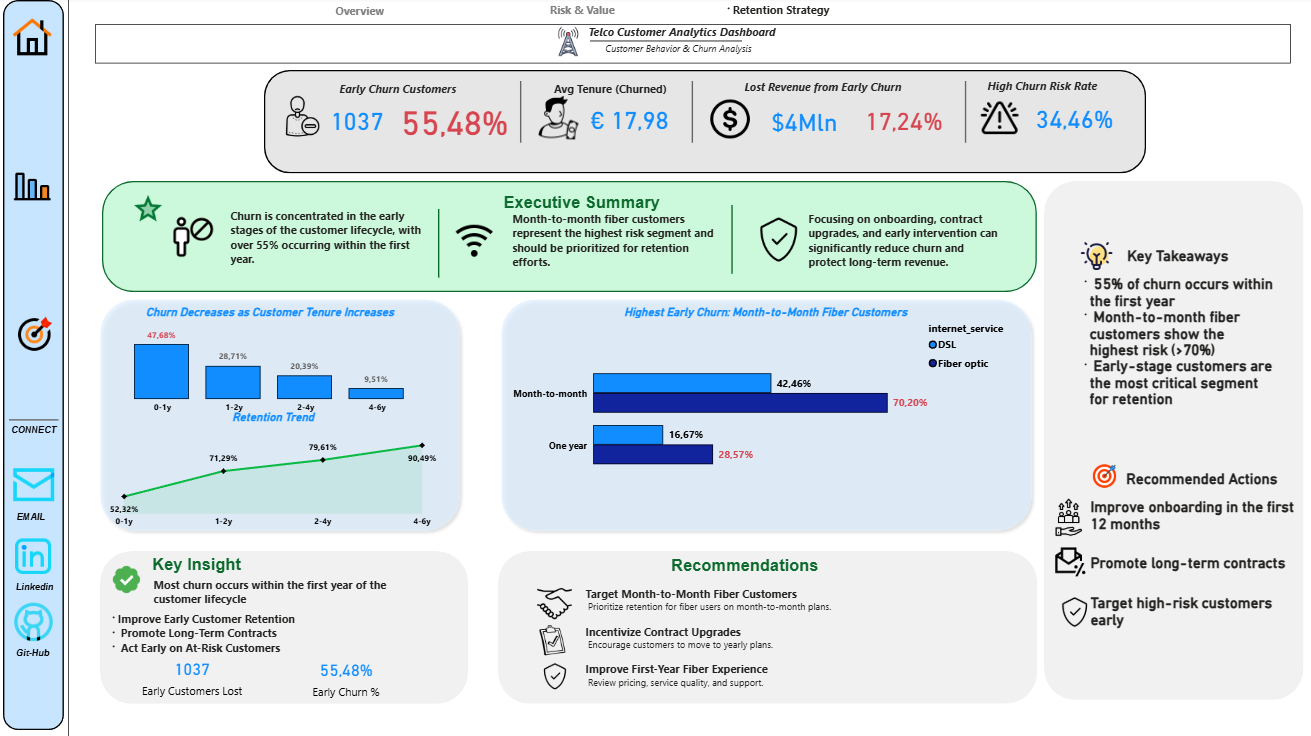

The page's visual inventory and layout, read from the dashboard file:
{"tool":"powerbi","page":{"name":"Retention Strategy","canvas":[1920,1080],"ordinal":2},"visuals":[{"type":"shape","box":[101.6,0,1818,1082],"z":0},{"type":"shape","box":[141.8,39.3,1744.6,57.5],"z":1000},{"type":"textbox","box":[851.8,35.7,325,37.5],"z":2000},{"type":"shape","box":[6.7,4,88.9,1065.2],"z":3000},{"type":"textbox","box":[487,4.3,87,31.9],"z":4000},{"type":"textbox","box":[685.2,3.6,333.7,39.3],"z":5000},{"type":"textbox","box":[1049.2,3.3,419.7,50.8],"z":6000},{"type":"image","box":[16.2,31,68.7,57.9],"z":7000},{"type":"image","box":[804.3,37.7,56.5,53.6],"z":8000},{"type":"textbox","box":[857.1,60.7,269.6,30.4],"z":9000},{"type":"image","box":[16.4,249.2,67.2,54.1],"z":10000},{"type":"shape","box":[15.9,589.9,72.5,55.1],"z":11000},{"type":"shape","box":[863.8,55.1,221.7,17.4],"z":12000},{"type":"image","box":[11.6,678.3,81.2,65.2],"z":13000},{"type":"image","box":[7.2,787,88.4,59.4],"z":14000},{"type":"image","box":[7.2,881.2,88.4,60.9],"z":15000},{"type":"textbox","box":[8.7,617.4,87,27.5],"z":16000},{"type":"textbox","box":[9.8,743.9,75.8,26.7],"z":17000},{"type":"textbox","box":[11.6,846.4,84.1,29],"z":18000},{"type":"textbox","box":[8.7,942,84.1,29],"z":19000},{"type":"shape","box":[139.3,431.1,542.6,355.7],"z":20000},{"type":"shape","box":[388.5,106.6,1286.9,150.8],"z":21000},{"type":"shape","box":[734.4,123,57.4,90.2],"z":22000},{"type":"card","fields":{"Values":["Misure.Average Tenure (Churned Customers)"]},"box":[842.6,145.9,157.4,62.3],"z":23000},{"type":"shape","box":[724.6,431.1,791.8,355.7],"z":24000},{"type":"card","fields":{"Values":["Misure.Lost Revenue"]},"box":[1104.9,147.5,144.3,63.9],"z":25000},{"type":"shape","box":[995.1,123,36.1,90.2],"z":26000},{"type":"card","fields":{"Values":["Misure.Early Churn Customers"]},"box":[444.3,145.9,157.4,63.9],"z":27000},{"type":"card","fields":{"Values":["Misure.High Risk %"]},"box":[1495.1,144.3,150.8,62.3],"z":28000},{"type":"card","fields":{"Values":["Misure.Lost Revenue%"]},"box":[1242.6,147.5,157.4,62.3],"z":29000},{"type":"card","fields":{"Values":["Misure.Early Stage Churn %"]},"box":[577,147.5,175.4,62.3],"z":30000},{"type":"shape","box":[1398.4,123,27.9,90.2],"z":31000},{"type":"textbox","box":[1084.2,115.8,254.4,38.6],"z":32000},{"type":"textbox","box":[764.9,117.5,257.9,36.8],"z":33000},{"type":"textbox","box":[1439.1,114.1,196.9,35.9],"z":34000},{"type":"textbox","box":[493,117.5,191.2,49.1],"z":35000},{"type":"image","box":[1027.9,142.6,78.7,70.5],"z":36000},{"type":"image","box":[1426.2,145.9,68.9,62.3],"z":37000},{"type":"shape","box":[148.1,808.3,537.1,223],"z":38000},{"type":"image","box":[404.9,142.6,78.7,62.3],"z":39000},{"type":"image","box":[763.9,139.3,96.7,72.1],"z":40000},{"type":"columnChart","title":"Churn Decreases as Customer Tenure Increases","fields":{"Category":["telco chast.tenure_group"],"Y":["Misure.Churn rate %"]},"box":[152.5,449.2,490.2,167.2],"z":41000},{"type":"lineChart","title":"Retention Trend","fields":{"Category":["telco chast.tenure_group"],"Y":["Misure.Active Customers %"]},"box":[121.3,603.3,560.7,180.3],"z":42000},{"type":"textbox","box":[152.5,891.8,341,134.4],"z":43000},{"type":"textbox","box":[221.3,824.6,352.5,96.7],"z":44000},{"type":"card","fields":{"Values":["Misure.Early Stage Churn %"]},"box":[427.9,952.5,160.7,78.7],"z":45000},{"type":"card","title":"Customers Lost Early","fields":{"Values":["Misure.Early Churn Customers"]},"box":[188.5,945.9,190.2,90.2],"z":46000},{"type":"clusteredBarChart","title":"Highest Early Churn: Month-to-Month Fiber Customers","fields":{"Category":["telco chast.contract"],"Y":["Misure.Early Churn Rate %"],"Series":["telco chast.internet_service"]},"box":[745.9,449.2,749.2,308.2],"z":47000},{"type":"shape","box":[729.5,808.2,786.9,223],"z":48000},{"type":"textbox","box":[852.5,809.8,475.4,203.3],"z":49000},{"type":"shape","box":[1526.2,268.9,378.7,757.4],"z":50000},{"type":"textbox","box":[1570.3,360.9,300,350],"z":51000},{"type":"image","box":[1570.5,355.7,65.6,45.9],"z":52000},{"type":"textbox","box":[1588.5,685.2,329.5,311.5],"z":53000},{"type":"image","box":[1588.5,678.7,50.8,41],"z":54000},{"type":"image","box":[19.7,465.6,67.2,54.1],"z":55000},{"type":"image","box":[782,972.1,60.7,39.3],"z":56000},{"type":"image","box":[1526.1,875.4,71.5,43.8],"z":57000},{"type":"image","box":[782,906.6,50.8,65.6],"z":58000},{"type":"image","box":[786.9,845.9,50.8,75.4],"z":59000},{"type":"image","box":[1526.2,796.7,72.1,52.5],"z":60000},{"type":"image","box":[1526.2,731.1,72.1,55.7],"z":61000},{"type":"shape","box":[152.5,268.9,1363.9,162.3],"z":62000},{"type":"textbox","box":[191.8,280.3,1321.3,45.9],"z":63000},{"type":"textbox","box":[334.4,303.3,304.9,104.9],"z":64000},{"type":"shape","box":[627.9,309.8,31.1,100],"z":65000},{"type":"image","box":[196.7,280.3,44.3,57.4],"z":66000},{"type":"image","box":[255.7,303.3,59,93.4],"z":67000},{"type":"textbox","box":[745.9,308.2,309.8,109.8],"z":68000},{"type":"image","box":[665.6,308.2,59,93.4],"z":69000},{"type":"textbox","box":[1177,308.2,288.5,111.5],"z":70000},{"type":"image","box":[1104.9,321.3,68.9,65.6],"z":71000},{"type":"shape","box":[1037.7,303.3,67.2,100],"z":72000},{"type":"textbox","box":[219.7,808.2,191.8,45.9],"z":73000},{"type":"image","box":[163.9,823,47.5,54.1],"z":74000}]}

Visuals, with their boxes on the page's 1920x1080 design canvas (x1, y1, x2, y2). These are canvas units, not pixel positions in the 1311x736 screenshot, which may show the page scaled, cropped or inside an application window:
shape: [left=102, top=0, right=1920, bottom=1082]
shape: [left=142, top=39, right=1886, bottom=97]
textbox: [left=852, top=36, right=1177, bottom=73]
shape: [left=7, top=4, right=96, bottom=1069]
textbox: [left=487, top=4, right=574, bottom=36]
textbox: [left=685, top=4, right=1019, bottom=43]
textbox: [left=1049, top=3, right=1469, bottom=54]
image: [left=16, top=31, right=85, bottom=89]
image: [left=804, top=38, right=861, bottom=91]
textbox: [left=857, top=61, right=1127, bottom=91]
image: [left=16, top=249, right=84, bottom=303]
shape: [left=16, top=590, right=88, bottom=645]
shape: [left=864, top=55, right=1086, bottom=72]
image: [left=12, top=678, right=93, bottom=744]
image: [left=7, top=787, right=96, bottom=846]
image: [left=7, top=881, right=96, bottom=942]
textbox: [left=9, top=617, right=96, bottom=645]
textbox: [left=10, top=744, right=86, bottom=771]
textbox: [left=12, top=846, right=96, bottom=875]
textbox: [left=9, top=942, right=93, bottom=971]
shape: [left=139, top=431, right=682, bottom=787]
shape: [left=388, top=107, right=1675, bottom=257]
shape: [left=734, top=123, right=792, bottom=213]
card - Misure.Average Tenure (Churned Customers): [left=843, top=146, right=1000, bottom=208]
shape: [left=725, top=431, right=1516, bottom=787]
card - Misure.Lost Revenue: [left=1105, top=148, right=1249, bottom=211]
shape: [left=995, top=123, right=1031, bottom=213]
card - Misure.Early Churn Customers: [left=444, top=146, right=602, bottom=210]
card - Misure.High Risk %: [left=1495, top=144, right=1646, bottom=207]
card - Misure.Lost Revenue%: [left=1243, top=148, right=1400, bottom=210]
card - Misure.Early Stage Churn %: [left=577, top=148, right=752, bottom=210]
shape: [left=1398, top=123, right=1426, bottom=213]
textbox: [left=1084, top=116, right=1339, bottom=154]
textbox: [left=765, top=118, right=1023, bottom=154]
textbox: [left=1439, top=114, right=1636, bottom=150]
textbox: [left=493, top=118, right=684, bottom=167]
image: [left=1028, top=143, right=1107, bottom=213]
image: [left=1426, top=146, right=1495, bottom=208]
shape: [left=148, top=808, right=685, bottom=1031]
image: [left=405, top=143, right=484, bottom=205]
image: [left=764, top=139, right=861, bottom=211]
"Churn Decreases as Customer Tenure Increases" columnChart: [left=152, top=449, right=643, bottom=616]
"Retention Trend" lineChart: [left=121, top=603, right=682, bottom=784]
textbox: [left=152, top=892, right=494, bottom=1026]
textbox: [left=221, top=825, right=574, bottom=921]
card - Misure.Early Stage Churn %: [left=428, top=952, right=589, bottom=1031]
"Customers Lost Early" card: [left=188, top=946, right=379, bottom=1036]
"Highest Early Churn: Month-to-Month Fiber Customers" clusteredBarChart: [left=746, top=449, right=1495, bottom=757]
shape: [left=730, top=808, right=1516, bottom=1031]
textbox: [left=852, top=810, right=1328, bottom=1013]
shape: [left=1526, top=269, right=1905, bottom=1026]
textbox: [left=1570, top=361, right=1870, bottom=711]
image: [left=1570, top=356, right=1636, bottom=402]
textbox: [left=1588, top=685, right=1918, bottom=997]
image: [left=1588, top=679, right=1639, bottom=720]
image: [left=20, top=466, right=87, bottom=520]
image: [left=782, top=972, right=843, bottom=1011]
image: [left=1526, top=875, right=1598, bottom=919]
image: [left=782, top=907, right=833, bottom=972]
image: [left=787, top=846, right=838, bottom=921]
image: [left=1526, top=797, right=1598, bottom=849]
image: [left=1526, top=731, right=1598, bottom=787]
shape: [left=152, top=269, right=1516, bottom=431]
textbox: [left=192, top=280, right=1513, bottom=326]
textbox: [left=334, top=303, right=639, bottom=408]
shape: [left=628, top=310, right=659, bottom=410]
image: [left=197, top=280, right=241, bottom=338]
image: [left=256, top=303, right=315, bottom=397]
textbox: [left=746, top=308, right=1056, bottom=418]
image: [left=666, top=308, right=725, bottom=402]
textbox: [left=1177, top=308, right=1466, bottom=420]
image: [left=1105, top=321, right=1174, bottom=387]
shape: [left=1038, top=303, right=1105, bottom=403]
textbox: [left=220, top=808, right=412, bottom=854]
image: [left=164, top=823, right=211, bottom=877]
